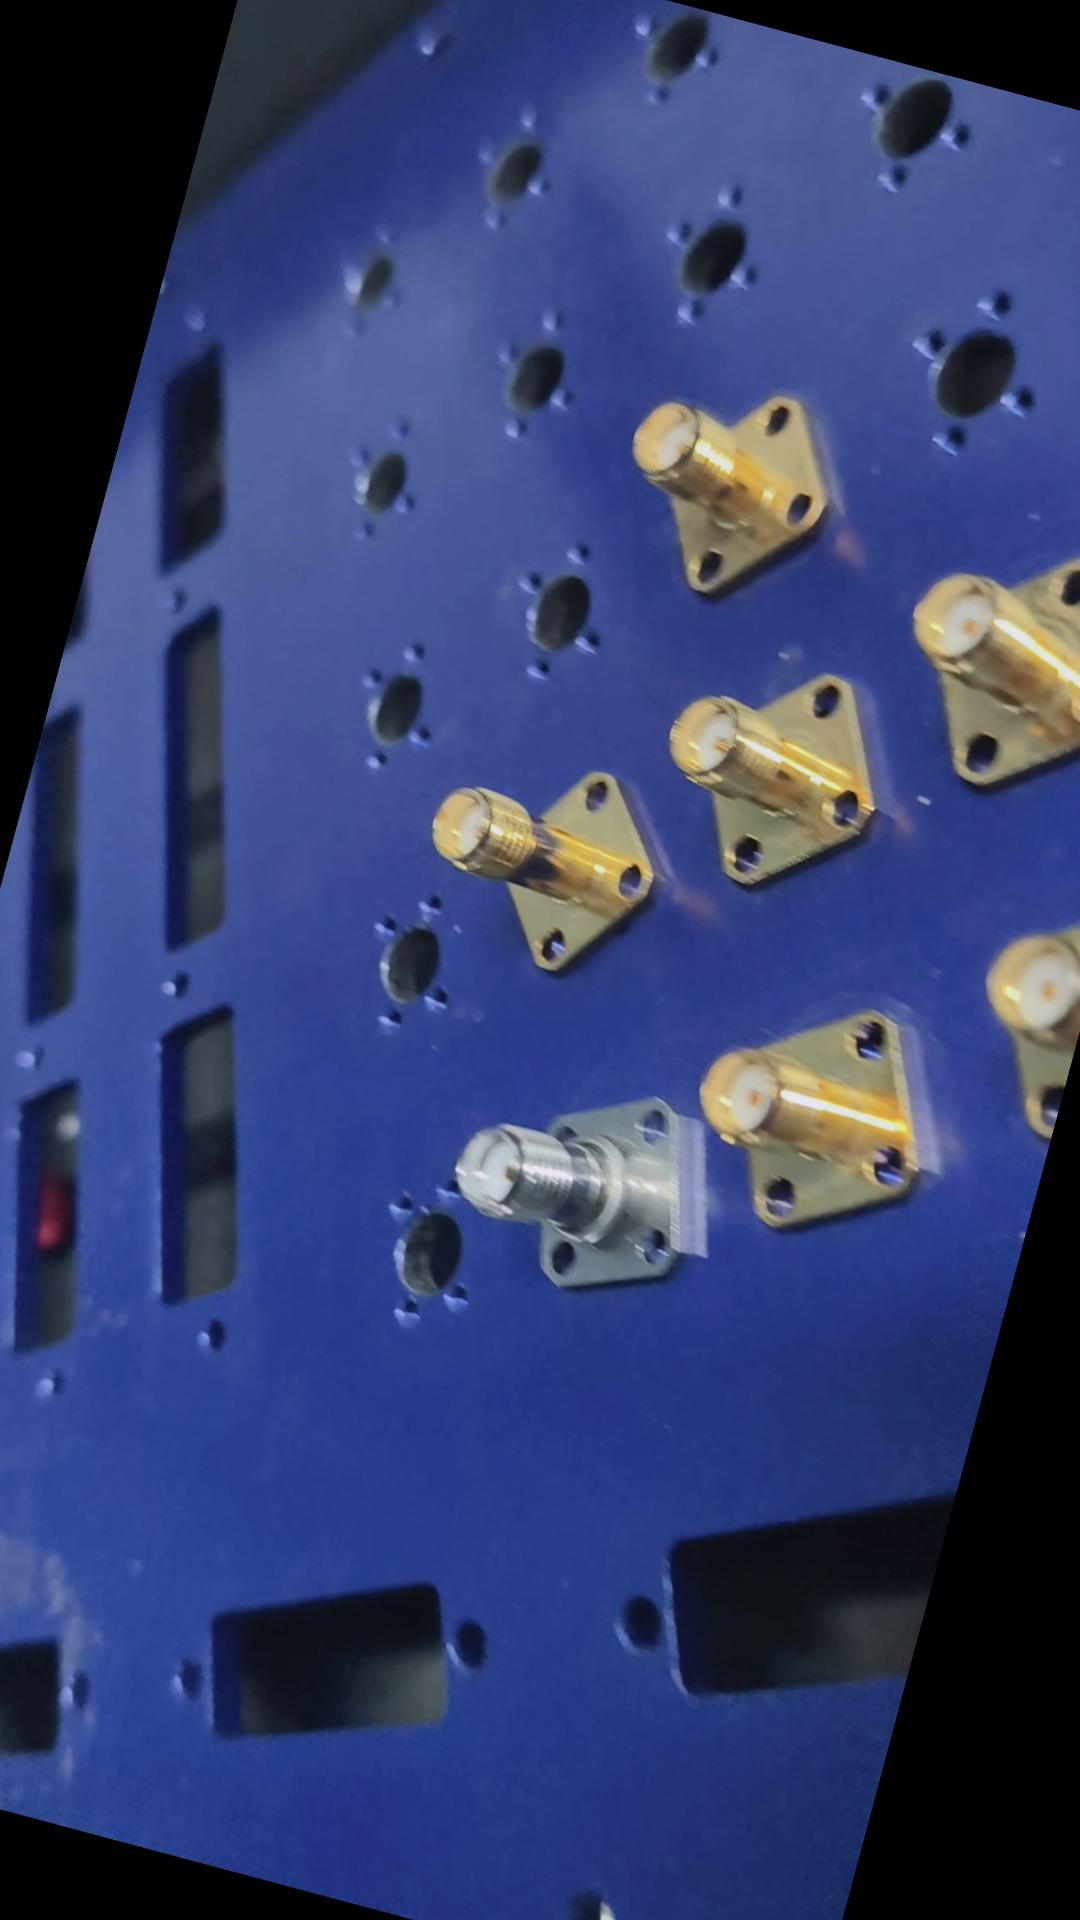SMA: (429, 1025, 737, 1319), (657, 965, 947, 1274), (404, 698, 682, 996), (593, 336, 858, 622), (634, 634, 899, 914), (861, 512, 1079, 822)
